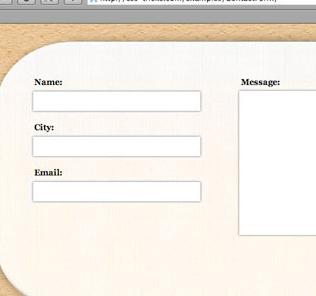field: (30, 89, 203, 114), (31, 179, 203, 203), (31, 135, 203, 158)
field_with_label: (28, 77, 205, 115), (29, 122, 206, 160), (28, 168, 205, 205)
